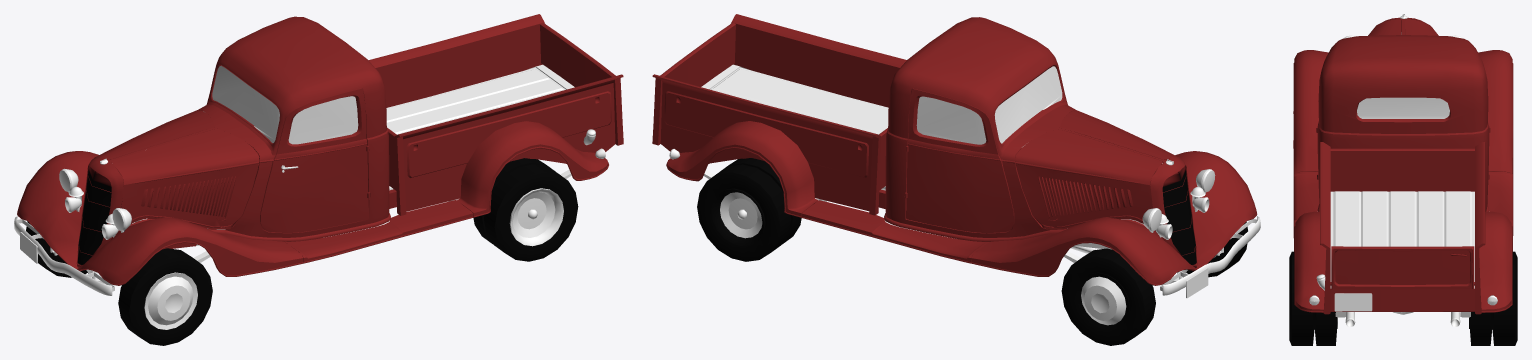
The model's file is Ford_TruckUv2.fbx.
3 renders of one model, left to right at view 1: azimuth 30°, elevation 25°; view 2: azimuth 150°, elevation 25°; view 3: azimuth 270°, elevation 25°, orthographic. The views are drawn at different scales.
Parts seen in each view (by area): view 1: body, hood, door_left, wheel_02, fender_front_left, wheel_01, fender_rear_right, fender_front_right, bumper_front, headlight_right, headlight_left, wheel_04; view 2: body, hood, door_right, wheel_03, fender_front_right, wheel_04, fender_rear_left, fender_front_left, bumper_front, headlight_left, headlight_right, wheel_01; view 3: body, fender_front_right, fender_front_left, fender_rear_left, fender_rear_right, wheel_02, wheel_03, hood, numberplate_rear.
Boxes of the visible parts, x1,y1,x2,y2 form: body: [76, 14, 623, 267]; hood: [96, 110, 259, 230]; door_left: [260, 88, 370, 232]; wheel_02: [473, 158, 578, 261]; fender_front_left: [76, 217, 303, 285]; wheel_01: [118, 248, 212, 345]; fender_rear_right: [456, 121, 608, 217]; fender_front_right: [17, 151, 98, 268]; bumper_front: [14, 216, 114, 295]; headlight_right: [59, 168, 83, 212]; headlight_left: [101, 208, 131, 239]; wheel_04: [26, 221, 87, 277]; body: [652, 14, 1197, 267]; hood: [1015, 110, 1178, 231]; door_right: [904, 88, 1014, 233]; wheel_03: [697, 158, 801, 261]; fender_front_right: [971, 217, 1197, 285]; wheel_04: [1061, 248, 1155, 345]; fender_rear_left: [666, 121, 818, 217]; fender_front_left: [1175, 151, 1257, 268]; bumper_front: [1160, 216, 1260, 298]; headlight_left: [1190, 169, 1215, 212]; headlight_right: [1142, 208, 1172, 239]; wheel_01: [1186, 222, 1247, 277]; body: [1293, 14, 1513, 326]; fender_front_right: [1478, 50, 1513, 178]; fender_front_left: [1293, 50, 1328, 178]; fender_rear_left: [1479, 211, 1512, 312]; fender_rear_right: [1294, 211, 1326, 312]; wheel_02: [1289, 251, 1337, 345]; wheel_03: [1469, 251, 1517, 345]; hood: [1368, 19, 1438, 35]; numberplate_rear: [1334, 293, 1372, 311].
Bounding box in the file's own units: 499 × 189 × 186.
